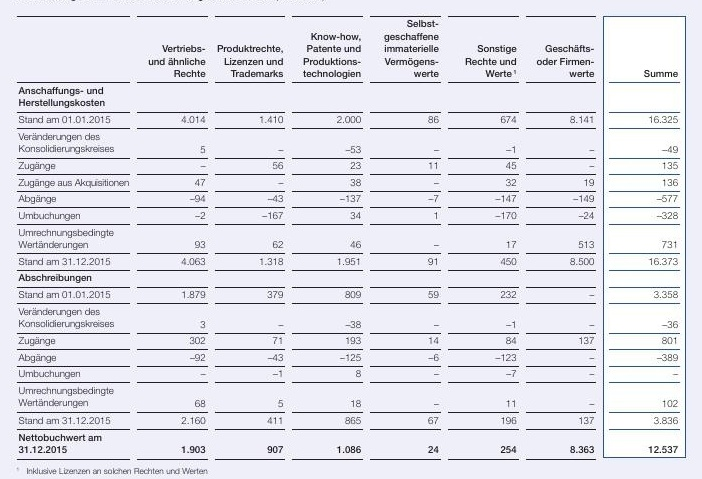table: (0, 0, 702, 479)
